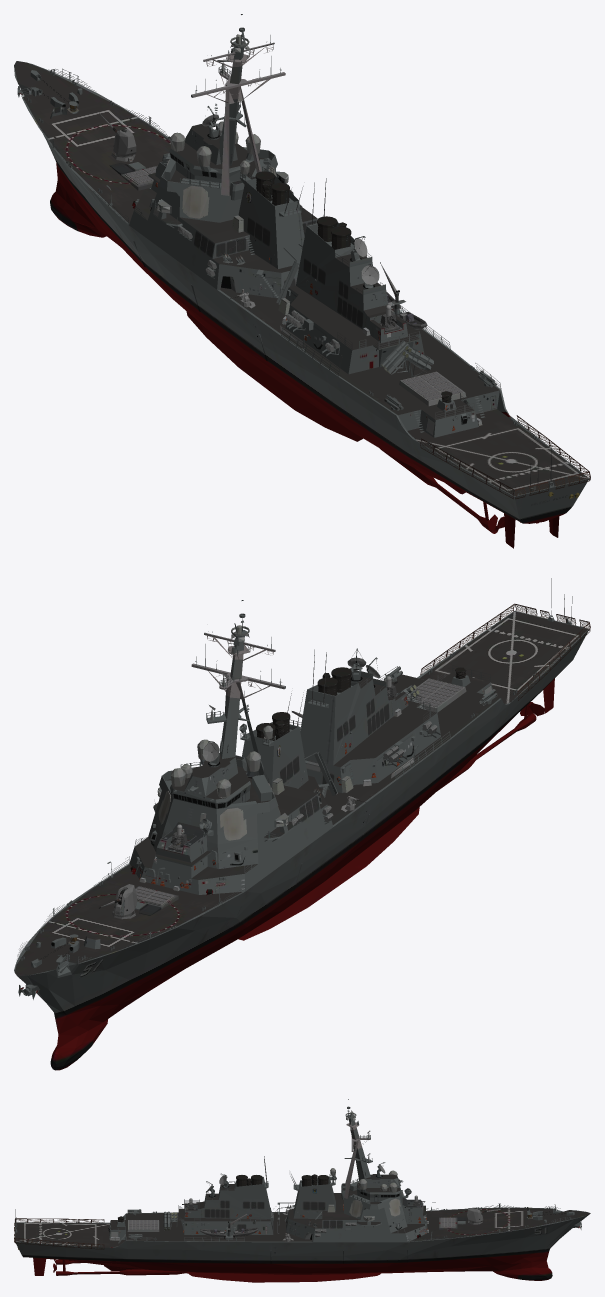
The model's file is ddg51.glb.
3 views of the same model, one above another, from view 1: azimuth 30°, elevation 25°; view 2: azimuth 150°, elevation 25°; view 3: azimuth 270°, elevation 25° (orthographic). The views are drawn at different scales.
Bounding box in the file's own units: 22.29 × 53.03 × 153.
Materials: 5 (5 with a texture image).
